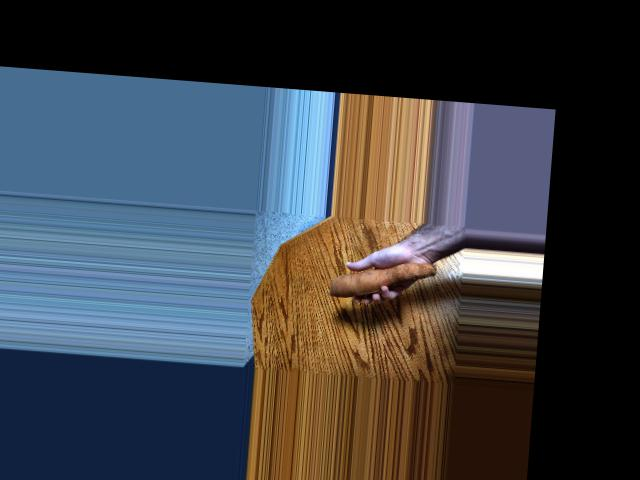sweet_potato: (327, 255, 447, 309)
